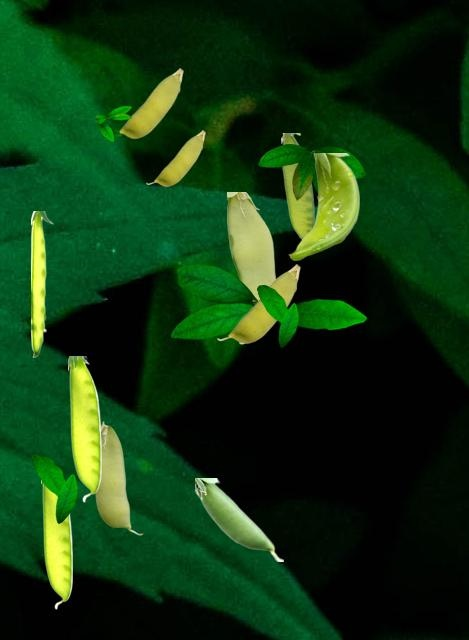pea: (288, 153, 358, 259), (227, 192, 276, 343), (195, 478, 282, 560), (217, 264, 299, 342), (95, 421, 142, 534), (68, 356, 100, 501), (119, 68, 182, 137), (41, 482, 71, 608), (281, 133, 314, 238), (146, 130, 204, 185), (31, 211, 52, 356)
